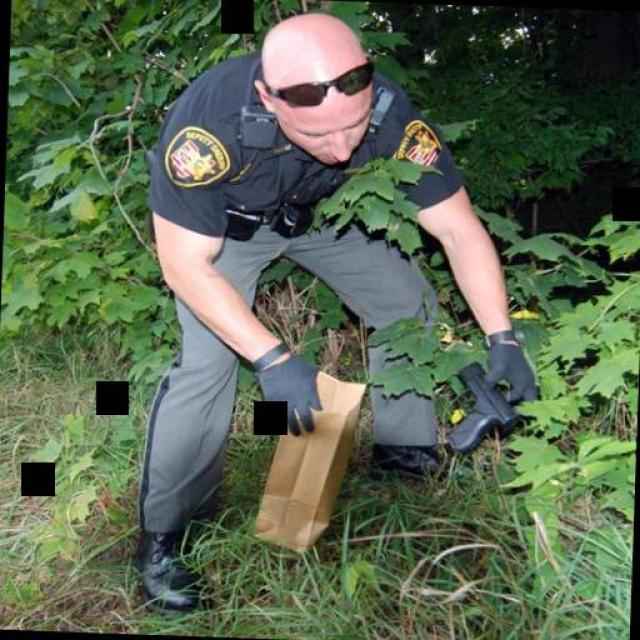gun: (438, 357, 518, 455)
